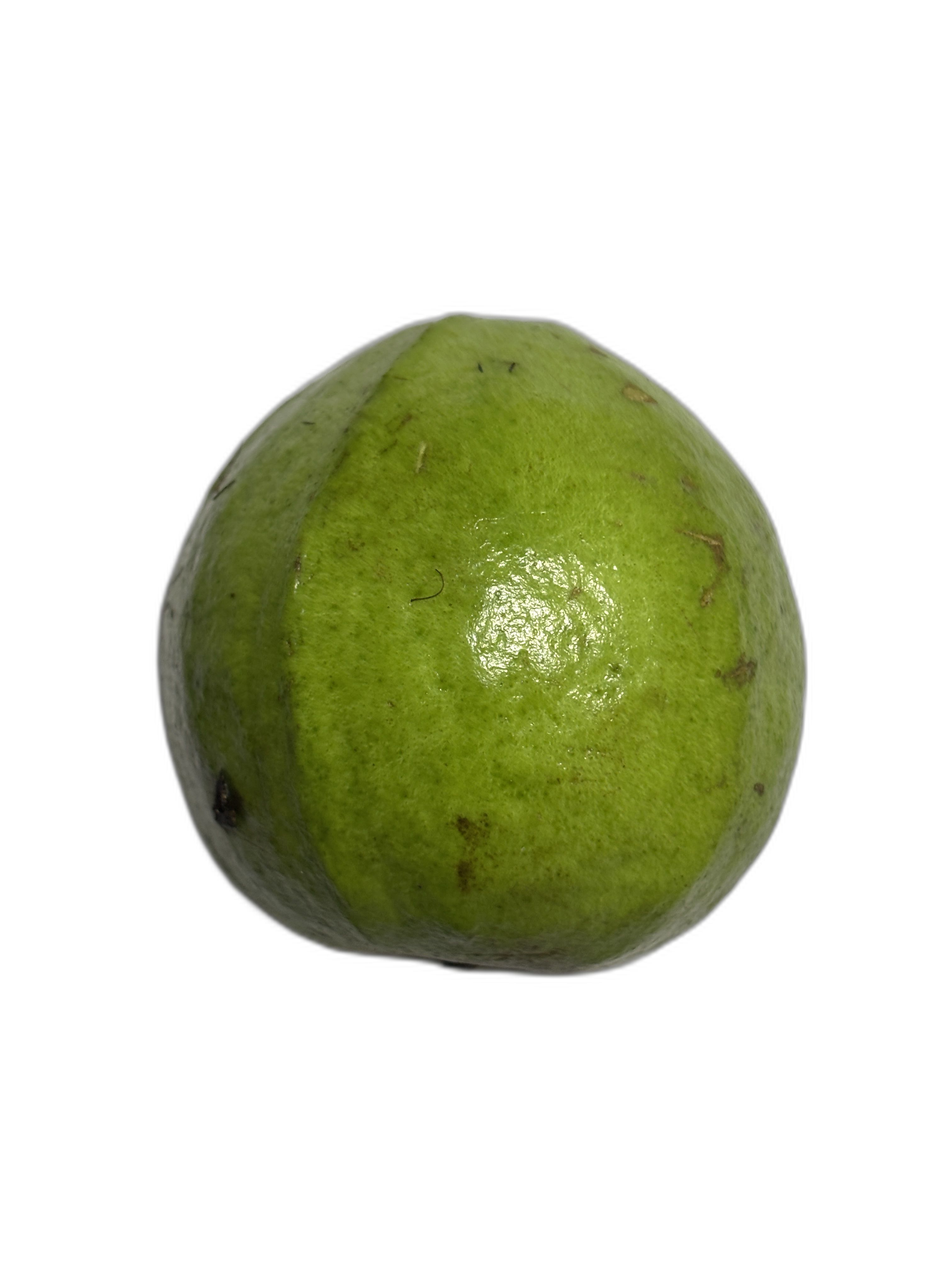guava: (65, 68, 888, 1207)
